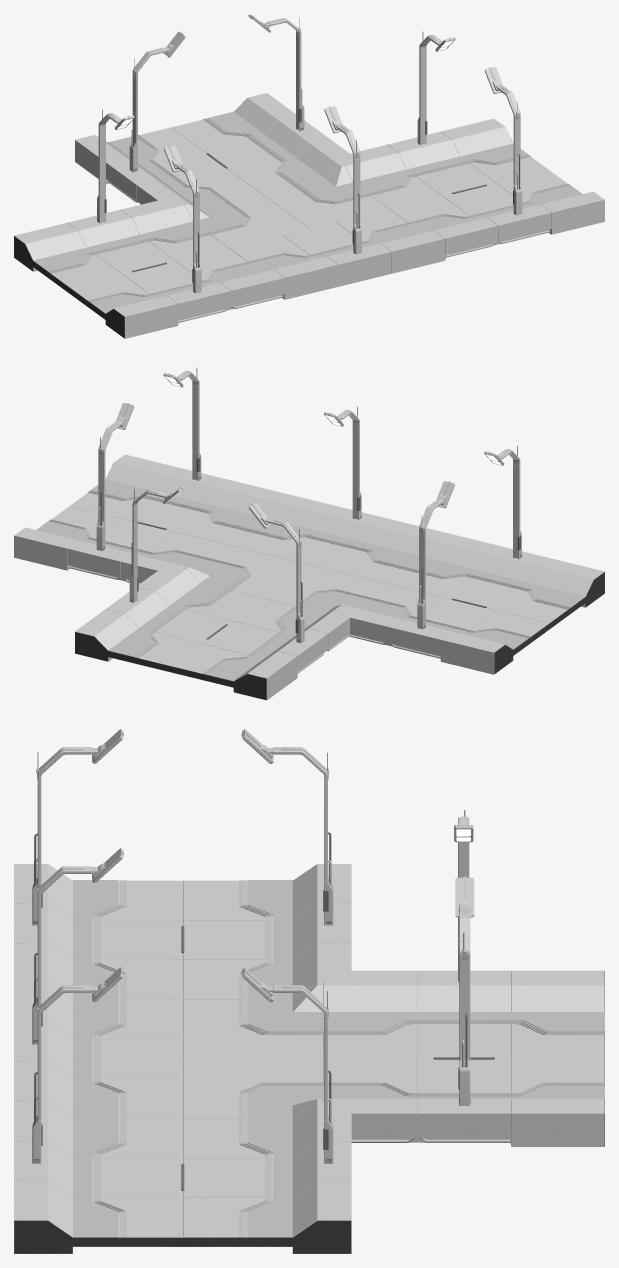
File: 三岔路口_HTS.fbx
The picture shows the model from 3 angles, top to bottom: view 1: azimuth 30°, elevation 25°; view 2: azimuth 150°, elevation 25°; view 3: azimuth 270°, elevation 25°; orthographic projection. The views are drawn at different scales.
Parts seen in each view (by area): view 1: KB3D_HTS_Road_C_Main, KB3D_HTS_Road_C_LampA, KB3D_HTS_Road_C_LampD, KB3D_HTS_Road_C_LampC, KB3D_HTS_Road_C_LampG, KB3D_HTS_Road_C_LampB, KB3D_HTS_Road_C_LampE, KB3D_HTS_Road_C_LampH; view 2: KB3D_HTS_Road_C_Main, KB3D_HTS_Road_C_LampB, KB3D_HTS_Road_C_LampE, KB3D_HTS_Road_C_LampG, KB3D_HTS_Road_C_LampA, KB3D_HTS_Road_C_LampD, KB3D_HTS_Road_C_LampC, KB3D_HTS_Road_C_LampH; view 3: KB3D_HTS_Road_C_Main, KB3D_HTS_Road_C_LampH, KB3D_HTS_Road_C_LampA, KB3D_HTS_Road_C_LampB, KB3D_HTS_Road_C_LampE, KB3D_HTS_Road_C_LampD, KB3D_HTS_Road_C_LampC, KB3D_HTS_Road_C_LampG.
Part boxes in pixels (bbox=[...]): KB3D_HTS_Road_C_Main: bbox=[14, 93, 604, 338]; KB3D_HTS_Road_C_LampA: bbox=[484, 67, 522, 215]; KB3D_HTS_Road_C_LampD: bbox=[324, 106, 361, 254]; KB3D_HTS_Road_C_LampC: bbox=[164, 145, 201, 293]; KB3D_HTS_Road_C_LampG: bbox=[129, 31, 185, 172]; KB3D_HTS_Road_C_LampB: bbox=[417, 31, 455, 145]; KB3D_HTS_Road_C_LampE: bbox=[97, 109, 134, 223]; KB3D_HTS_Road_C_LampH: bbox=[248, 14, 304, 131]; KB3D_HTS_Road_C_Main: bbox=[14, 454, 604, 700]; KB3D_HTS_Road_C_LampB: bbox=[96, 403, 134, 551]; KB3D_HTS_Road_C_LampE: bbox=[417, 481, 454, 629]; KB3D_HTS_Road_C_LampG: bbox=[249, 502, 304, 643]; KB3D_HTS_Road_C_LampA: bbox=[163, 368, 201, 480]; KB3D_HTS_Road_C_LampD: bbox=[324, 406, 361, 519]; KB3D_HTS_Road_C_LampC: bbox=[484, 446, 521, 559]; KB3D_HTS_Road_C_LampH: bbox=[129, 486, 185, 602]; KB3D_HTS_Road_C_Main: bbox=[14, 864, 604, 1253]; KB3D_HTS_Road_C_LampH: bbox=[455, 876, 474, 1105]; KB3D_HTS_Road_C_LampA: bbox=[32, 967, 123, 1163]; KB3D_HTS_Road_C_LampB: bbox=[241, 967, 333, 1163]; KB3D_HTS_Road_C_LampE: bbox=[241, 729, 333, 925]; KB3D_HTS_Road_C_LampD: bbox=[32, 848, 123, 1044]; KB3D_HTS_Road_C_LampC: bbox=[32, 729, 123, 925]; KB3D_HTS_Road_C_LampG: bbox=[454, 810, 473, 981].
Size of the model in its own units: 20 by 5.89 by 14.
